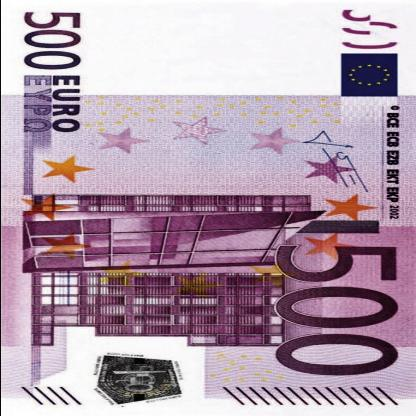euro_banknote: (2, 1, 416, 413)
